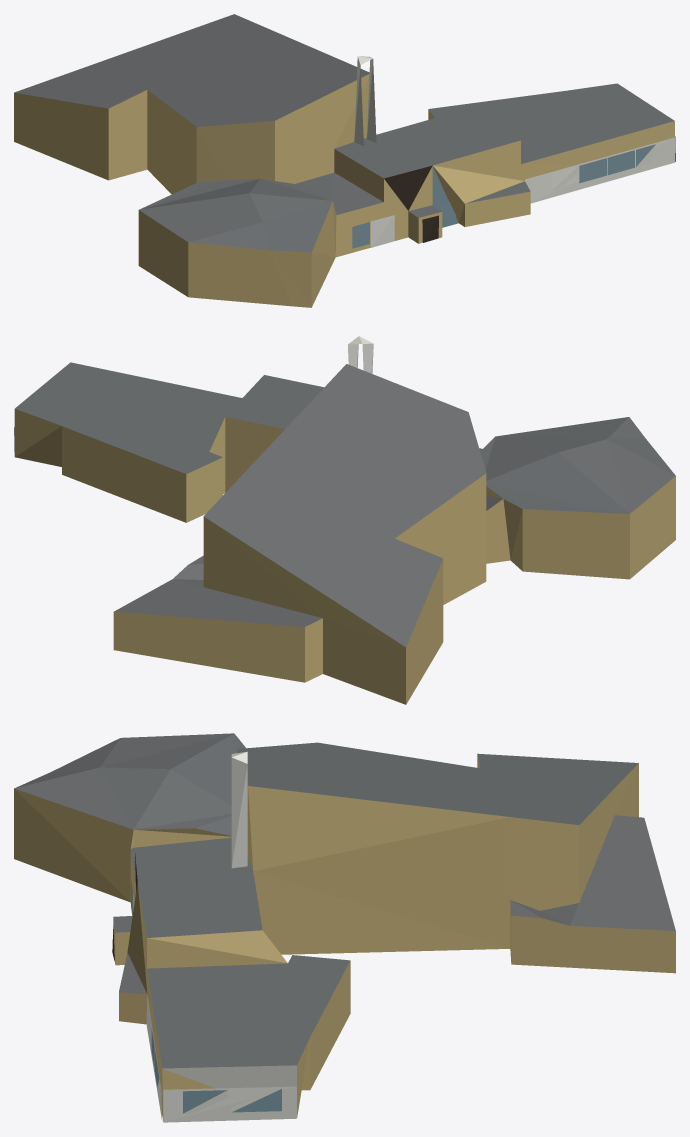
Rendered from thomaskerk.lod2.glb.
The picture shows the model from 3 angles, top to bottom: view 1: azimuth 30°, elevation 25°; view 2: azimuth 150°, elevation 25°; view 3: azimuth 270°, elevation 25°; orthographic projection. The views are drawn at different scales.
Parts seen in each view (by area): view 1: lod2; view 2: lod2; view 3: lod2.
Boxes of the visible parts, bbox=[...] form: lod2: bbox=[14, 14, 675, 307]; lod2: bbox=[14, 336, 675, 704]; lod2: bbox=[14, 733, 675, 1122].
Bounding box in the file's own units: 60.66 × 17.2 × 53.44.
